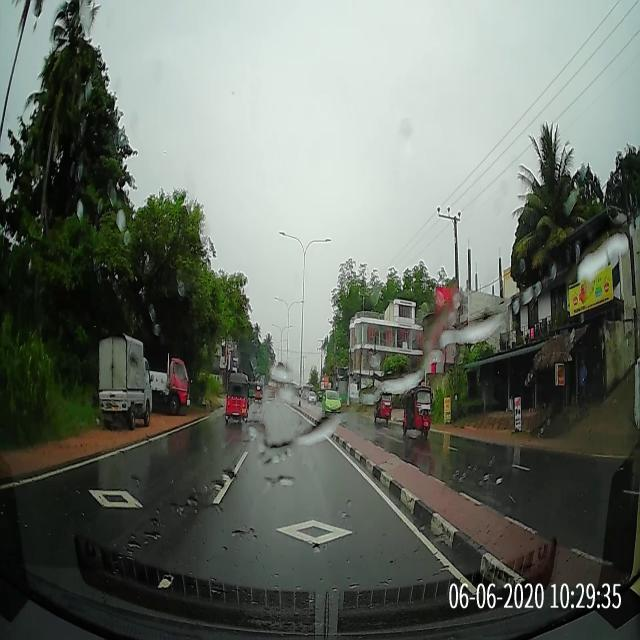Romb: (272, 517, 357, 549), (86, 489, 147, 509)
